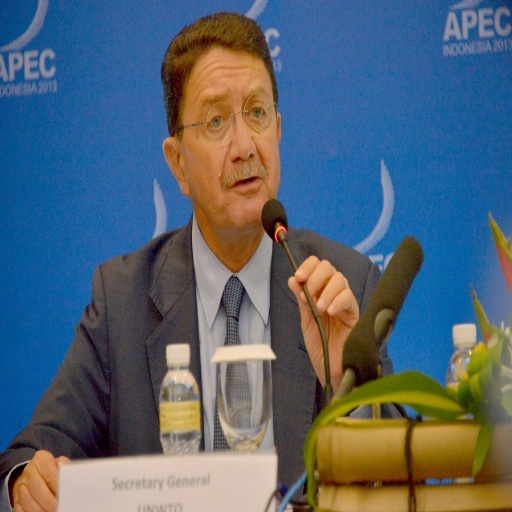hand: (291, 250, 366, 357), (10, 446, 71, 510)
